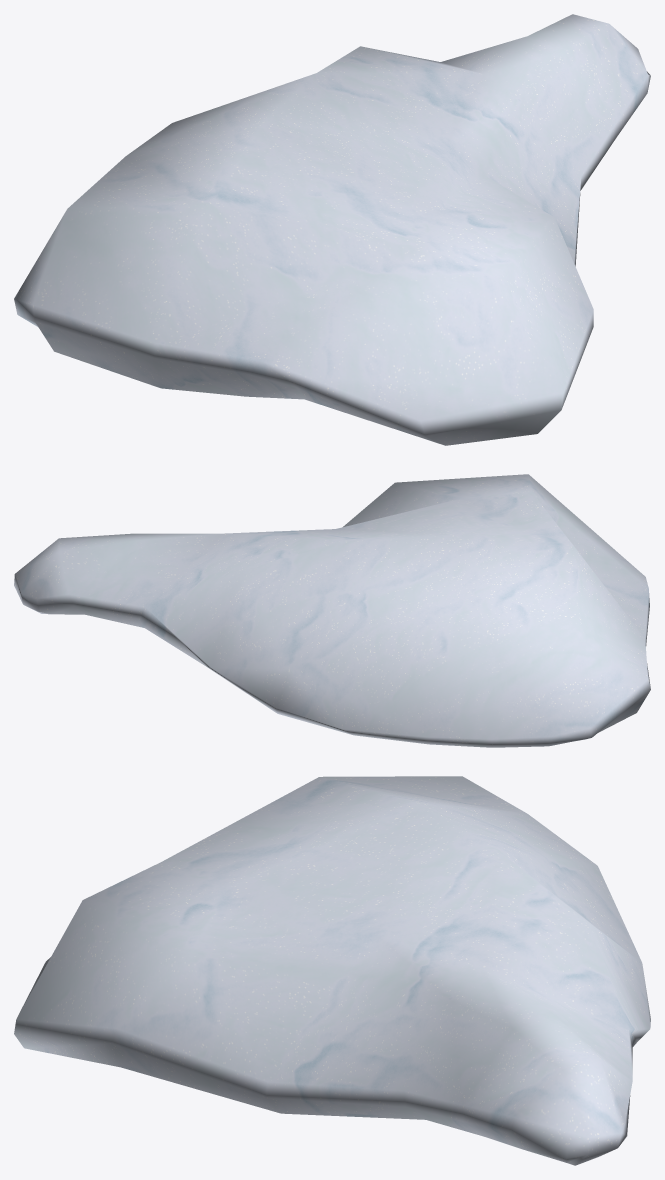
Rendered from Arctic_Cliff_SnowCap_SM.fbx.
The picture shows the model from 3 angles, top to bottom: view 1: azimuth 30°, elevation 25°; view 2: azimuth 150°, elevation 25°; view 3: azimuth 270°, elevation 25°; orthographic projection. The views are drawn at different scales.
Parts seen in each view (by area): view 1: Arctic_Cliff_SnowCap_SM; view 2: Arctic_Cliff_SnowCap_SM; view 3: Arctic_Cliff_SnowCap_SM.
Boxes of the visible parts, left/top/right/bottom form: Arctic_Cliff_SnowCap_SM: left=14, top=14, right=650, bottom=445; Arctic_Cliff_SnowCap_SM: left=14, top=474, right=650, bottom=747; Arctic_Cliff_SnowCap_SM: left=14, top=776, right=650, bottom=1165.
Size of the model in its own units: 551 by 152 by 421.
